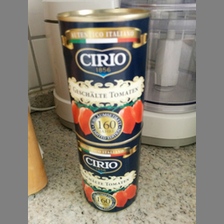tomato_sauce: (57, 8, 150, 146), (75, 133, 143, 213)
